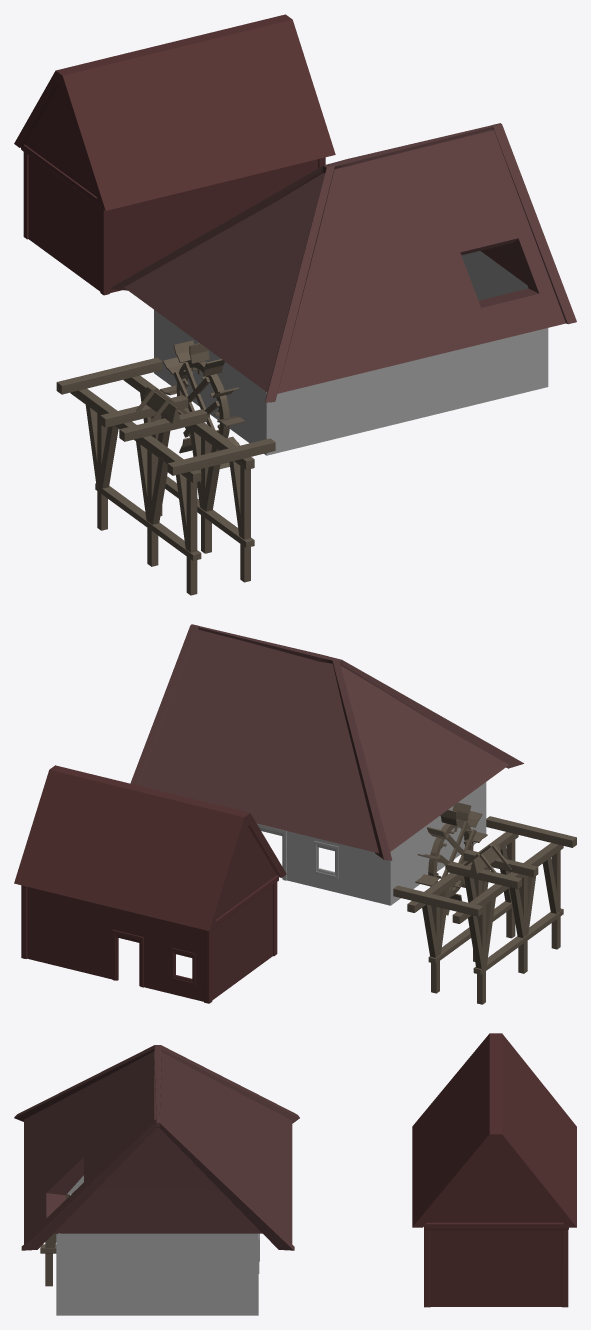
File: HouseAndShackV7.fbx
3 views of the same model, one above another, from view 1: azimuth 30°, elevation 25°; view 2: azimuth 150°, elevation 25°; view 3: azimuth 270°, elevation 25° (orthographic). The views are drawn at different scales.
Visible parts, largest first — view 1: roof, Shack, ExteriorWall, RoofTrim, BlocksTop, MillWheel, BlocksBottom, Pillar1, Pillar3, InteriorWall, Pillar4, Pillar5 (+3 smaller); view 2: Shack, roof, ExteriorWall, RoofTrim, BlocksTop, MillWheel, BlocksBottom, Pillar3, Pillar1, Pillar2, Pillar4, Blocks (+2 smaller); view 3: roof, Shack, ExteriorWall, RoofTrim, Pillar5.
Part boxes in pixels (<box>): roof: <box>124,129,565,393</box>; Shack: <box>14,14,335,295</box>; ExteriorWall: <box>154,310,548,455</box>; RoofTrim: <box>109,123,576,402</box>; BlocksTop: <box>70,375,254,482</box>; MillWheel: <box>160,340,244,468</box>; BlocksBottom: <box>95,476,254,560</box>; Pillar1: <box>136,441,167,566</box>; Pillar3: <box>85,399,118,530</box>; InteriorWall: <box>461,251,528,300</box>; Pillar4: <box>176,474,197,595</box>; Pillar5: <box>229,461,250,582</box>; Shack: <box>14,765,286,1003</box>; roof: <box>139,629,508,853</box>; ExteriorWall: <box>257,782,486,905</box>; RoofTrim: <box>130,624,523,860</box>; BlocksTop: <box>407,832,563,923</box>; MillWheel: <box>415,802,487,915</box>; BlocksBottom: <box>428,901,563,974</box>; Pillar3: <box>468,893,496,1004</box>; Pillar1: <box>509,875,535,973</box>; Pillar2: <box>422,887,449,993</box>; Pillar4: <box>542,850,560,949</box>; Blocks: <box>486,816,576,847</box>; roof: <box>24,1051,292,1243</box>; Shack: <box>412,1033,576,1307</box>; ExteriorWall: <box>56,1233,259,1315</box>; RoofTrim: <box>14,1045,299,1250</box>; Pillar5: <box>45,1194,70,1286</box>.
Size of the model in its own units: 18.15 by 14.79 by 25.03.
